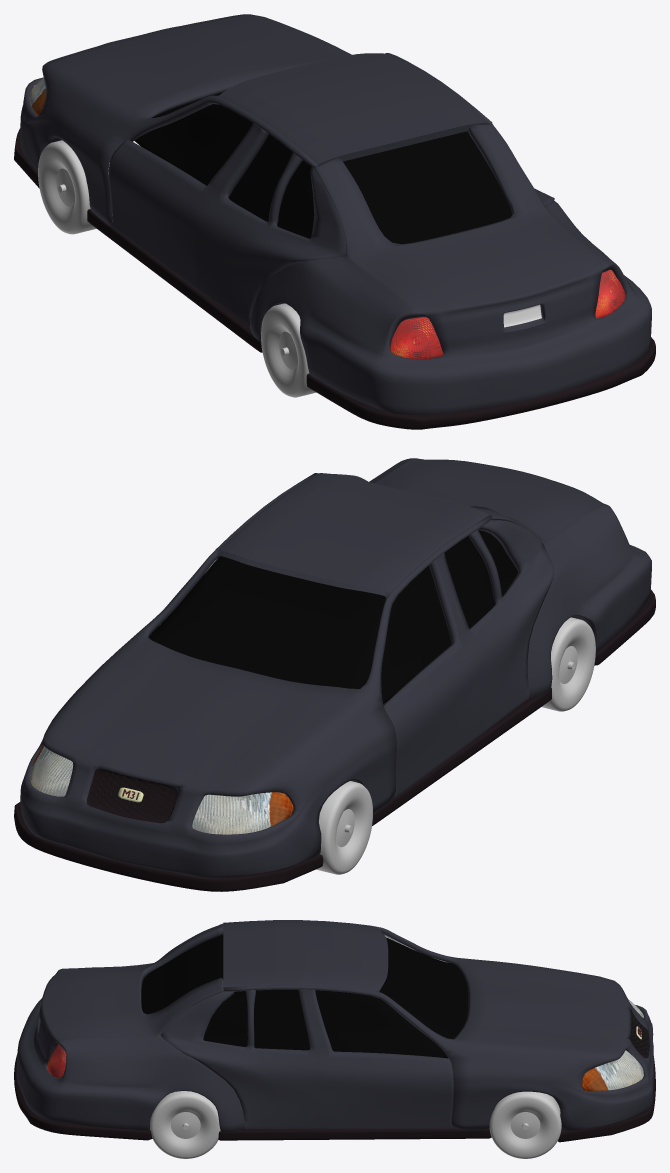
File: NormalCar.fbx
3 views of the same model, one above another, from view 1: azimuth 30°, elevation 25°; view 2: azimuth 150°, elevation 25°; view 3: azimuth 270°, elevation 25° (orthographic). The views are drawn at different scales.
Visible parts, largest first — view 1: RandomCar; view 2: RandomCar; view 3: RandomCar.
Part boxes in pixels (left/top/right/bottom): RandomCar: left=14, top=14, right=655, bottom=429; RandomCar: left=14, top=458, right=655, bottom=891; RandomCar: left=14, top=920, right=655, bottom=1158.
Bounding box in the file's own units: 201 × 133 × 495.
